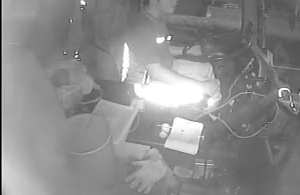paper: (161, 115, 205, 157)
